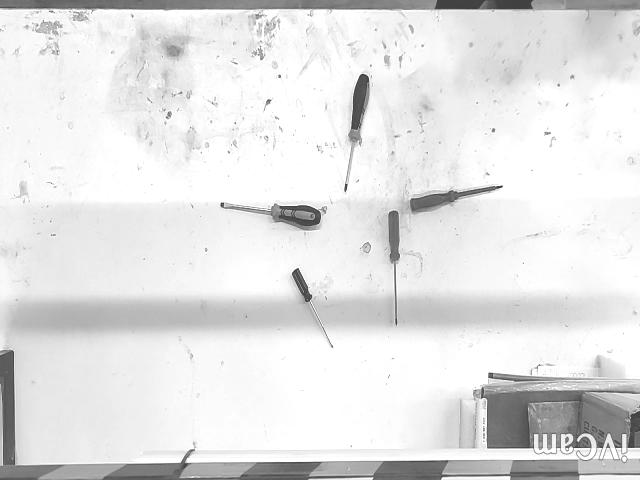Screwdriver: (291, 268, 333, 347), (344, 74, 370, 192), (220, 202, 321, 228), (411, 185, 503, 210), (389, 211, 400, 325)
